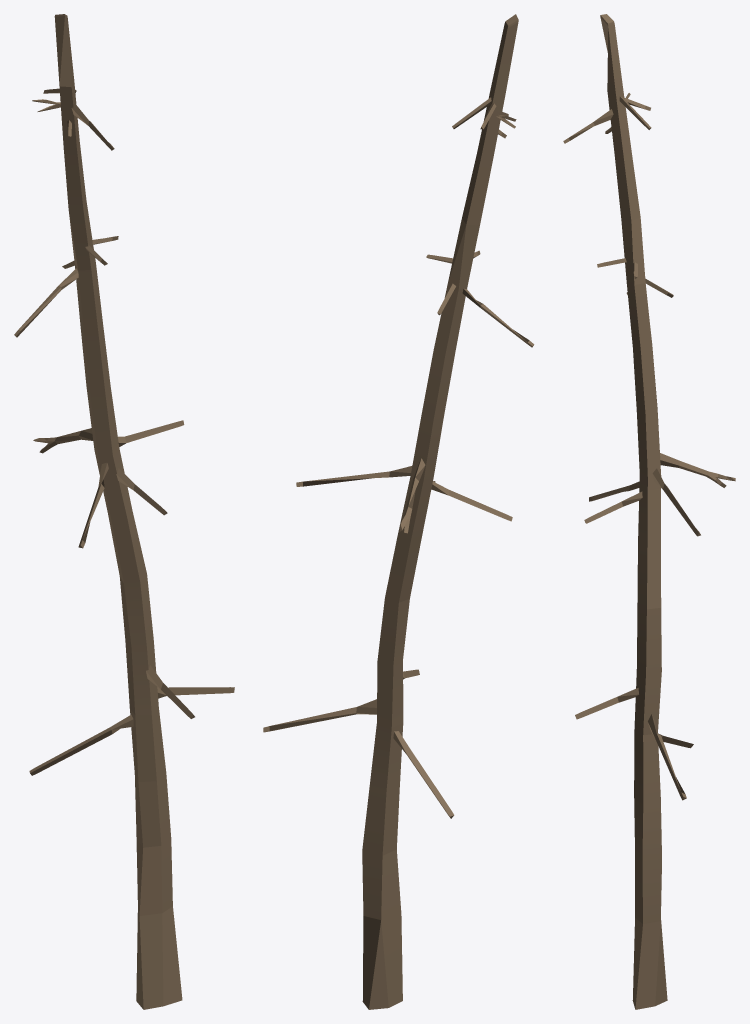
Rendered from pine_bare_3.FBX.
3 renders of one model, left to right at view 1: azimuth 30°, elevation 25°; view 2: azimuth 150°, elevation 25°; view 3: azimuth 270°, elevation 25°, orthographic. The views are drawn at different scales.
Visible parts, largest first — view 1: pine_bare_3; view 2: pine_bare_3; view 3: pine_bare_3.
Boxes of the visible parts, box(x1,y1,x2,y2) form: pine_bare_3: box(14, 14, 234, 1009); pine_bare_3: box(263, 14, 534, 1009); pine_bare_3: box(563, 14, 735, 1009).
Size of the model in its own units: 1.88 by 7.44 by 1.25.
